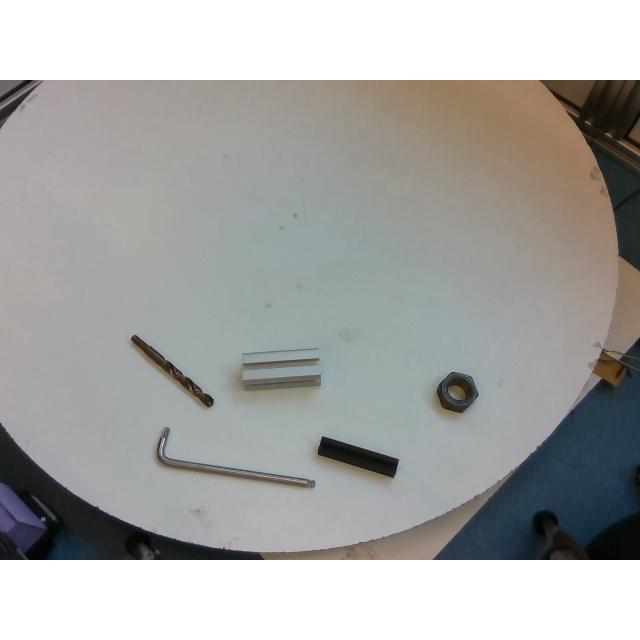AllenKey: (156, 427, 314, 487)
Drill: (130, 334, 214, 406)
F20_20_B: (317, 436, 398, 476)
M30: (438, 372, 478, 412)
S40_40_G: (242, 347, 322, 389)
